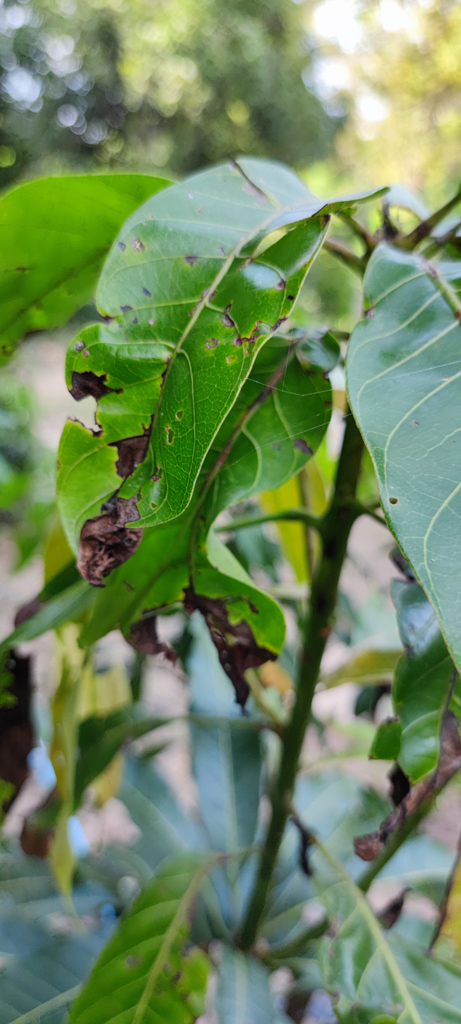frog-eye leafspot: (222, 352, 240, 370)
